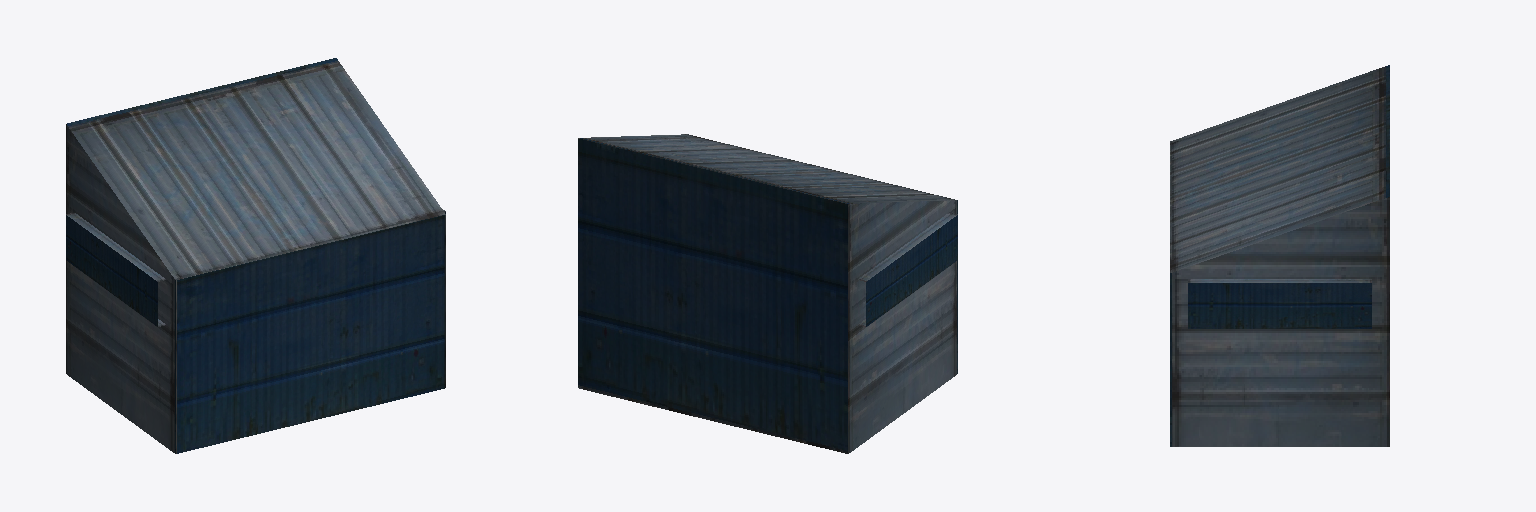
The picture shows the model from 3 angles: view 1: azimuth 30°, elevation 25°; view 2: azimuth 150°, elevation 25°; view 3: azimuth 270°, elevation 25°; orthographic projection.
Parts seen in each view (by area): view 1: dumpster_1_v1; view 2: dumpster_1_v1; view 3: dumpster_1_v1.
Part boxes in pixels (x1,y1,x2,y2): dumpster_1_v1: (66,58,445,453); dumpster_1_v1: (578,134,957,453); dumpster_1_v1: (1170,65,1389,446).
Size of the model in its own units: 1.83 by 1.52 by 1.21.
1 materials, 1 textured.